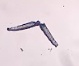microplastic: (39, 23, 59, 48), (6, 20, 41, 32)
